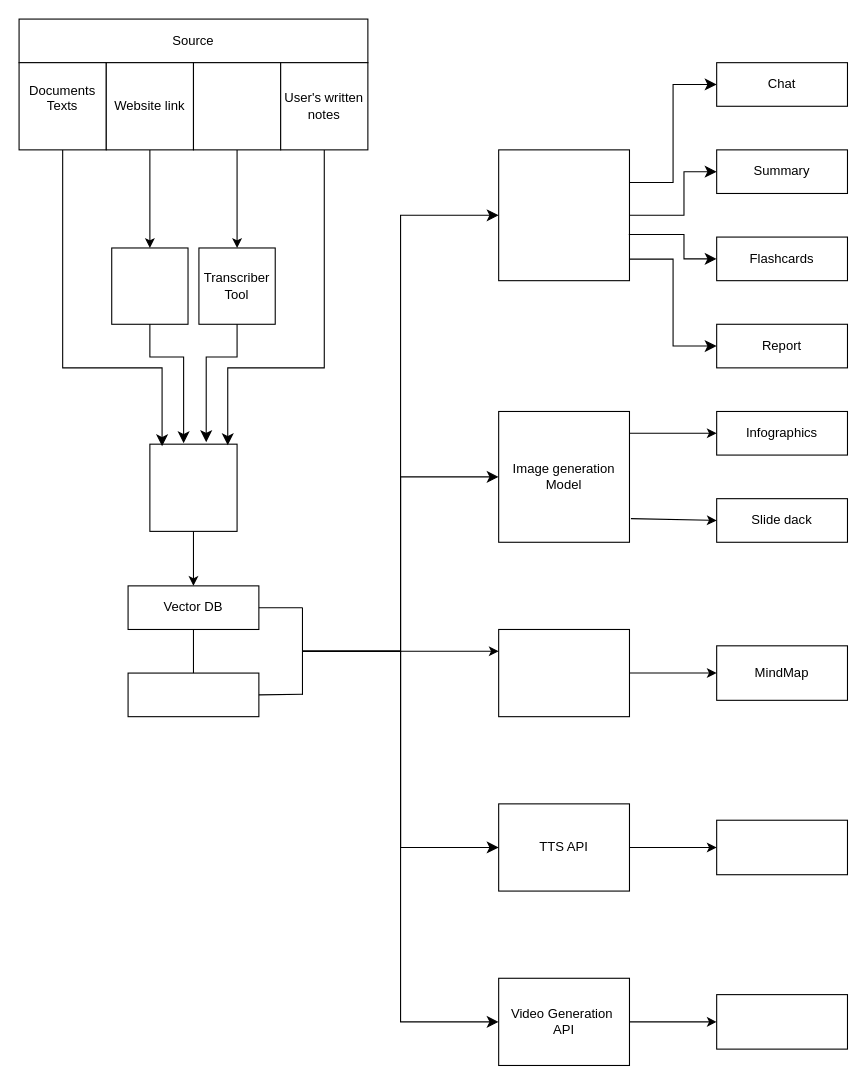
Image size: 867x1085. Some labels were removed from this diagram. Each missing label, with the box of its shape:
Audio overview: (716, 819, 847, 875)
LLM Model Integration: (498, 149, 629, 281)
Memory Layer: (127, 672, 259, 717)
MMP Generation API: (498, 628, 629, 717)
Text Embedding Model: (149, 443, 237, 531)
Video overview: (716, 994, 847, 1049)
Web scrapping Tool: (111, 247, 188, 324)
You Tube VideoLink: (192, 62, 281, 150)
